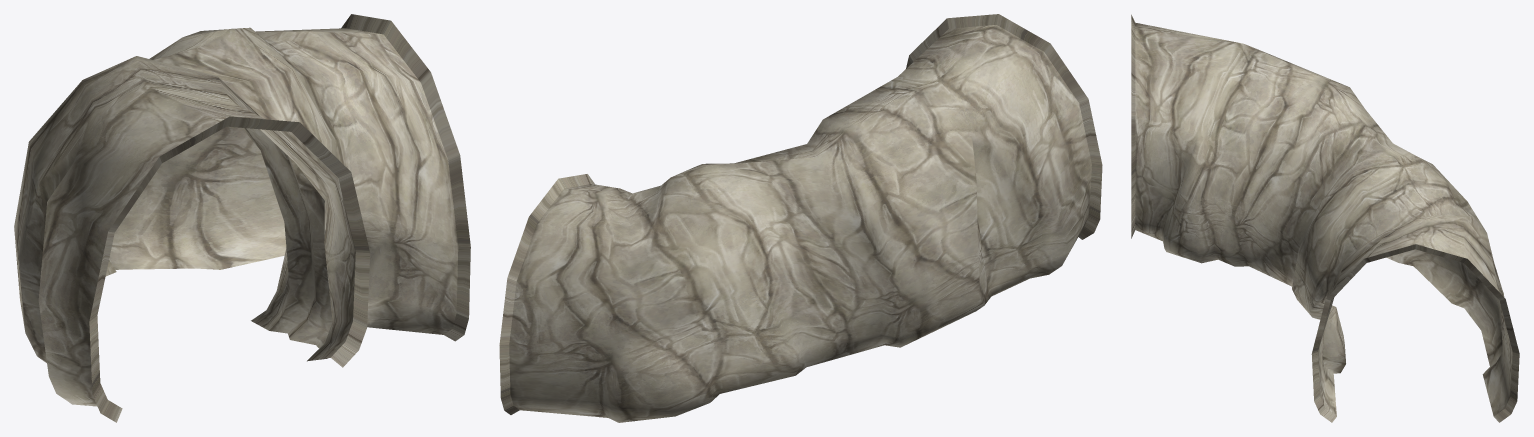
File: cave ceiling corner slope.FBX
3 renders of one model, left to right at view 1: azimuth 30°, elevation 25°; view 2: azimuth 150°, elevation 25°; view 3: azimuth 270°, elevation 25°, orthographic. The views are drawn at different scales.
Visible parts, largest first — view 1: cave ceiling corne slope; view 2: cave ceiling corne slope; view 3: cave ceiling corne slope.
Boxes of the visible parts, bbox=[...] form: cave ceiling corne slope: bbox=[14, 14, 470, 422]; cave ceiling corne slope: bbox=[499, 14, 1102, 422]; cave ceiling corne slope: bbox=[1131, 14, 1519, 422].
Size of the model in its own units: 34.98 by 27.66 by 34.68.
